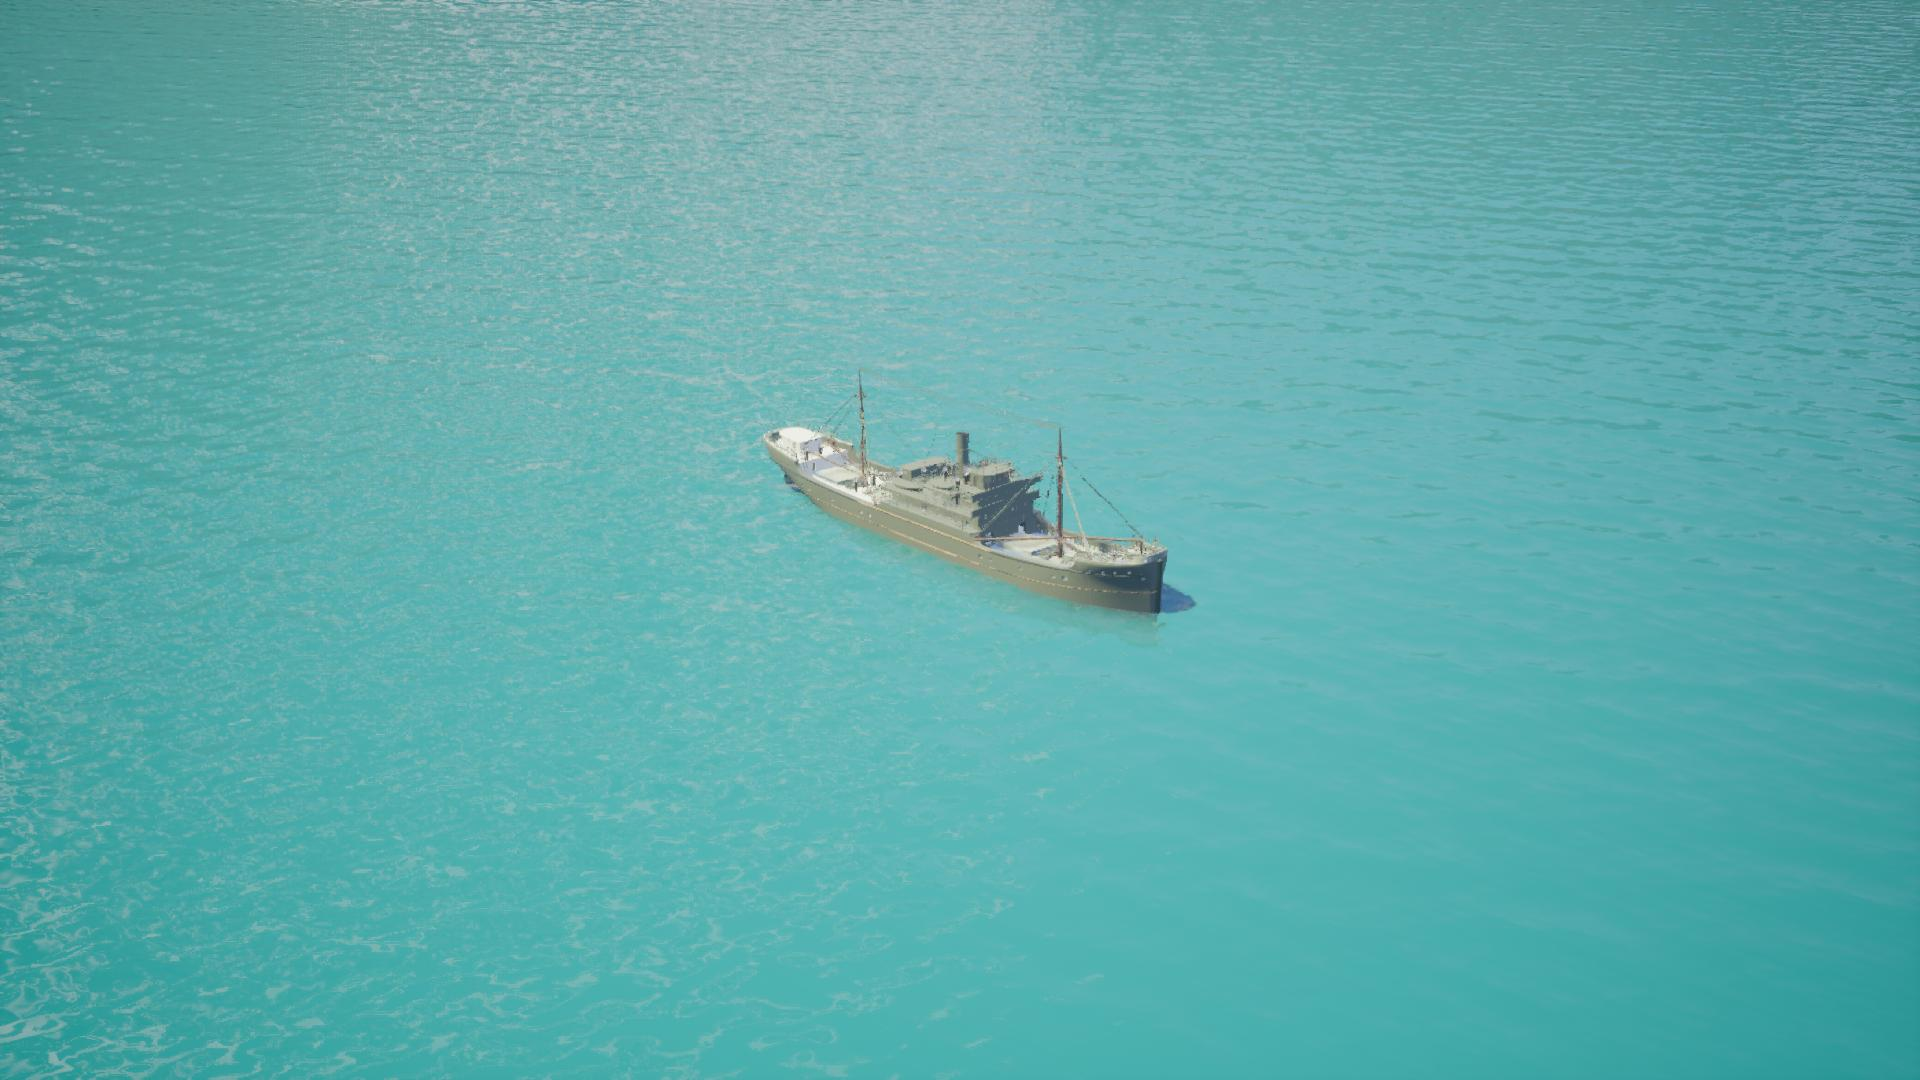Fishing Boat: (757, 422, 1184, 618)
